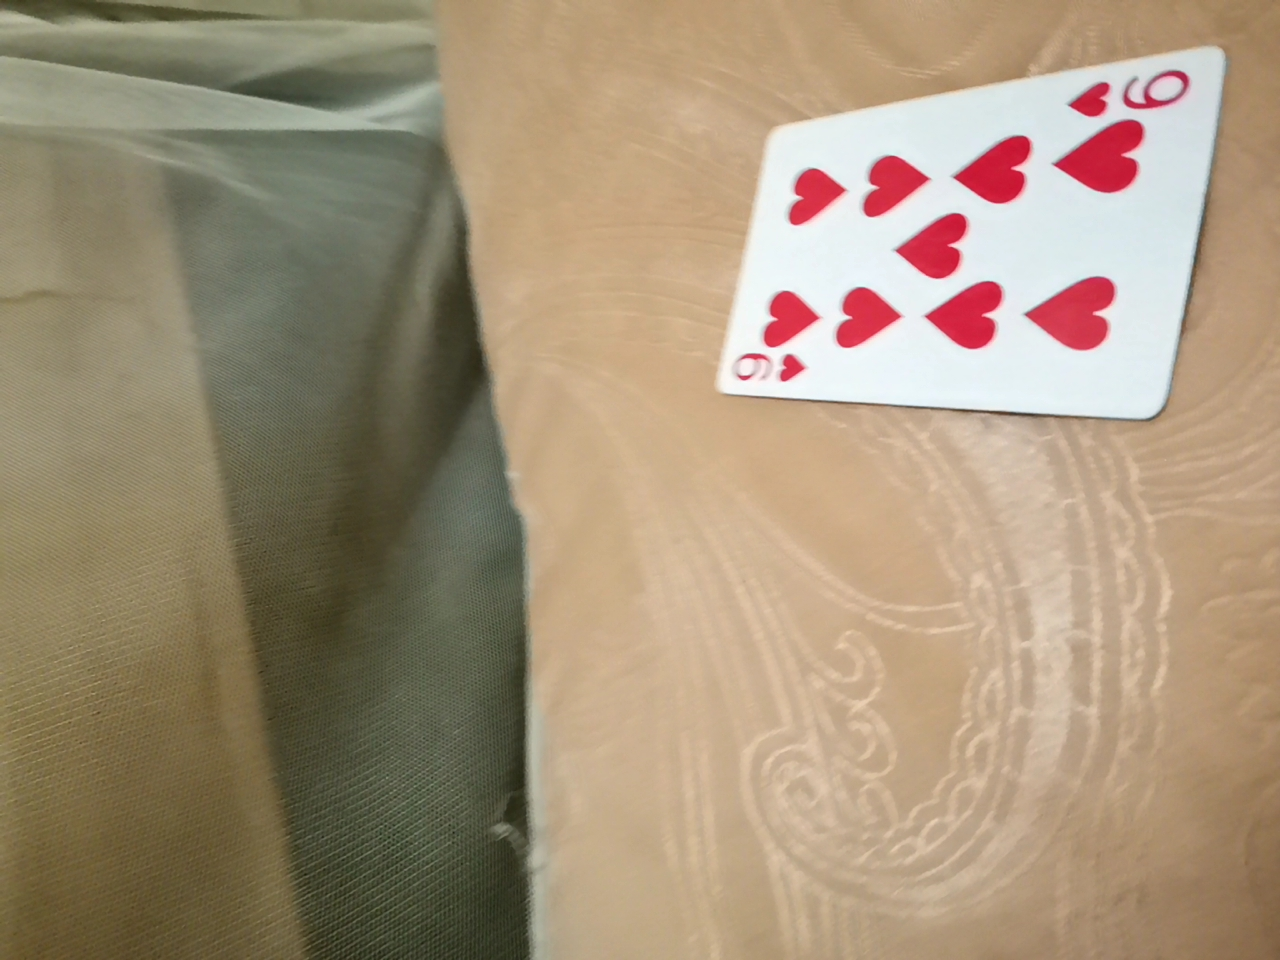hx 9: (715, 68, 1194, 419)
